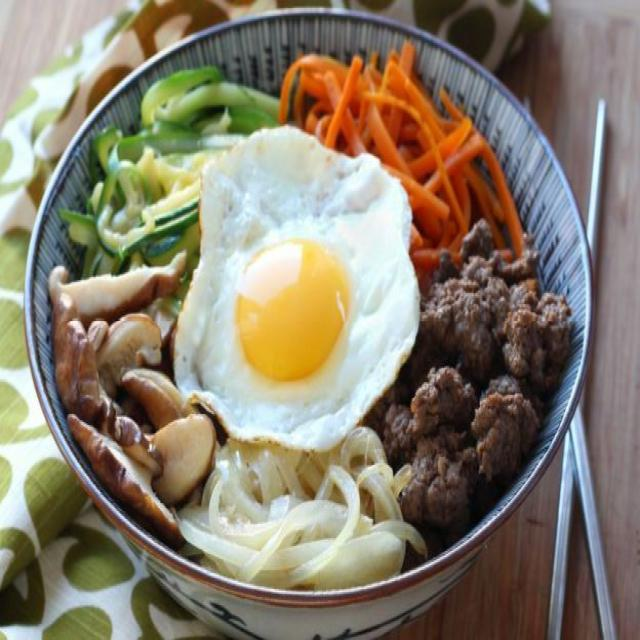Carbohydrate: (46, 253, 212, 522)
Kaow-Yum: (24, 6, 596, 610)
Protein: (174, 129, 418, 447), (409, 215, 574, 535)
Vegetable: (59, 42, 512, 253), (190, 434, 421, 585)
